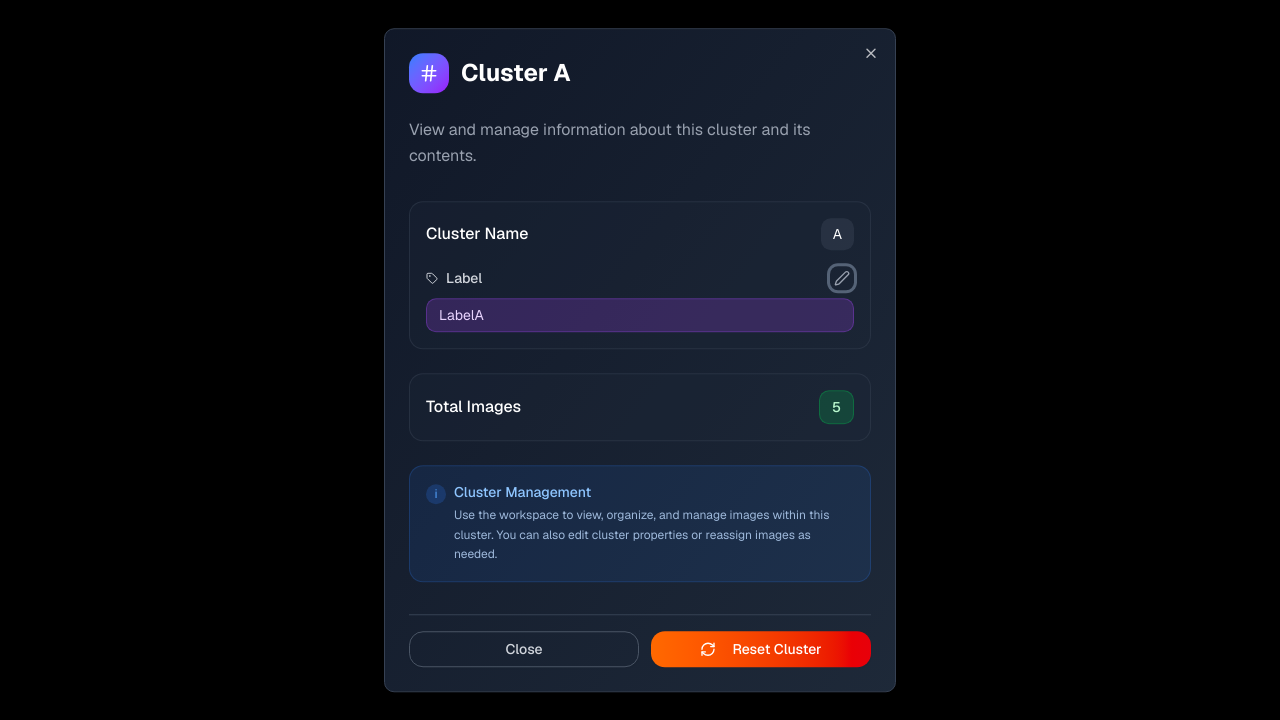
Test case: ClusterInfoDialog › shows editable label input when edit is clicked
Click the button named "Edit label": (842, 278) [830,266,854,290]
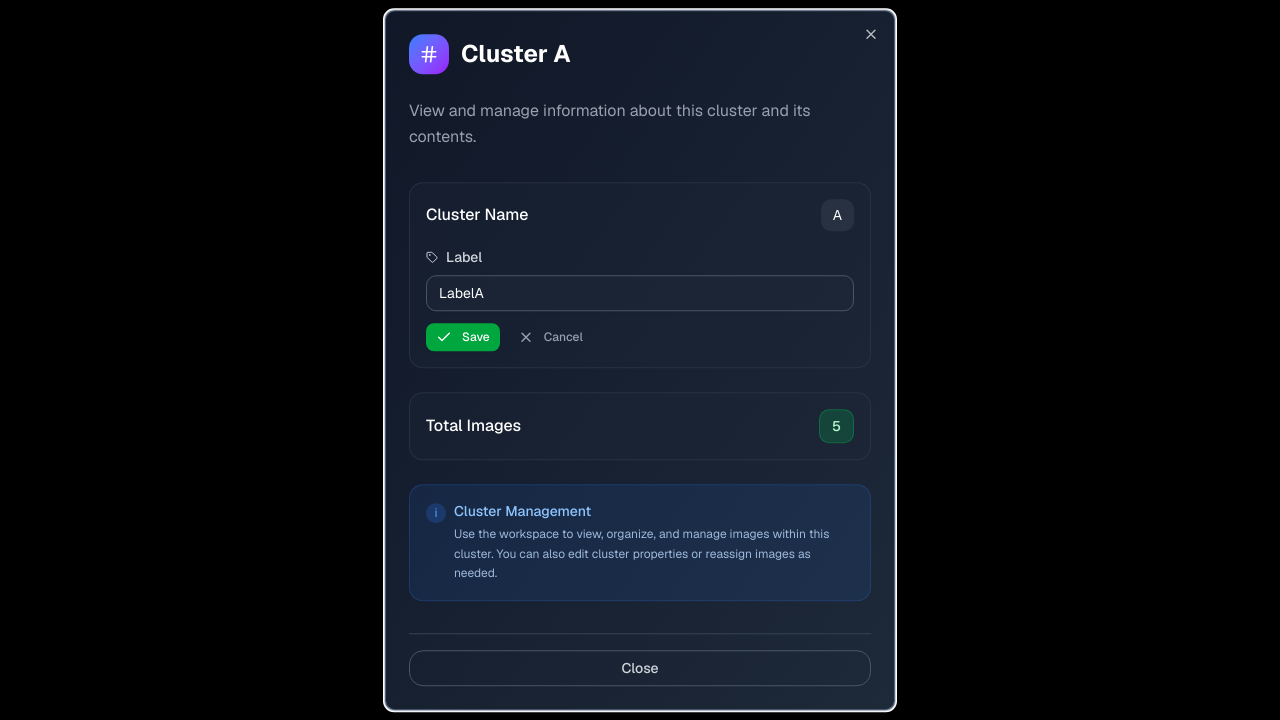
Now the field with placeholder "Enter label name..." is shown, box [426,275,854,311]
